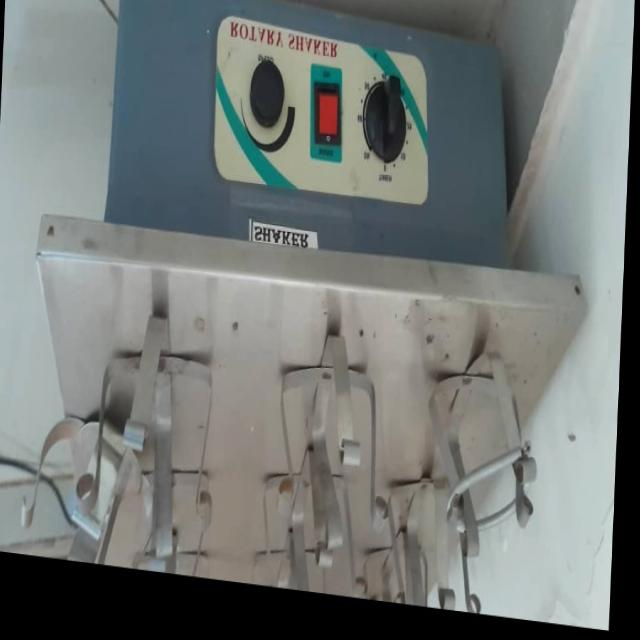Rotary Shaker: (21, 0, 602, 619)
